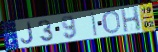3: (37, 19, 55, 42)
9: (61, 15, 79, 41)
H: (119, 6, 143, 34)
I: (90, 11, 99, 37)
J: (20, 21, 35, 45)
O: (102, 10, 123, 35)
